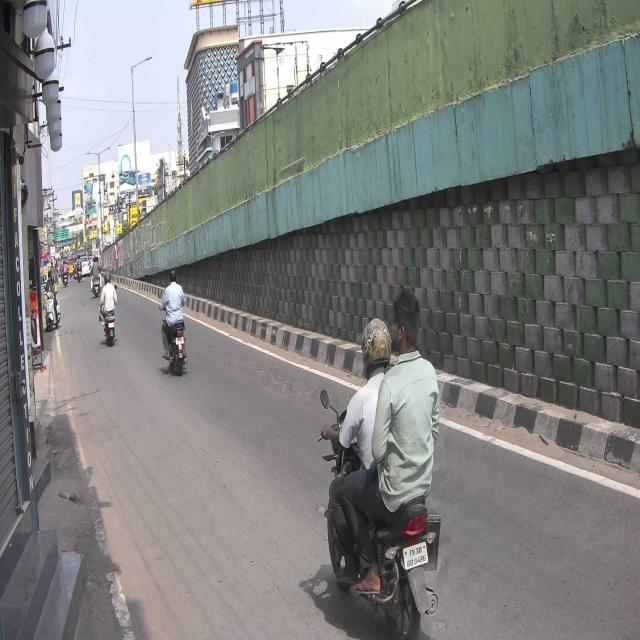double_rider: (314, 286, 443, 640)
